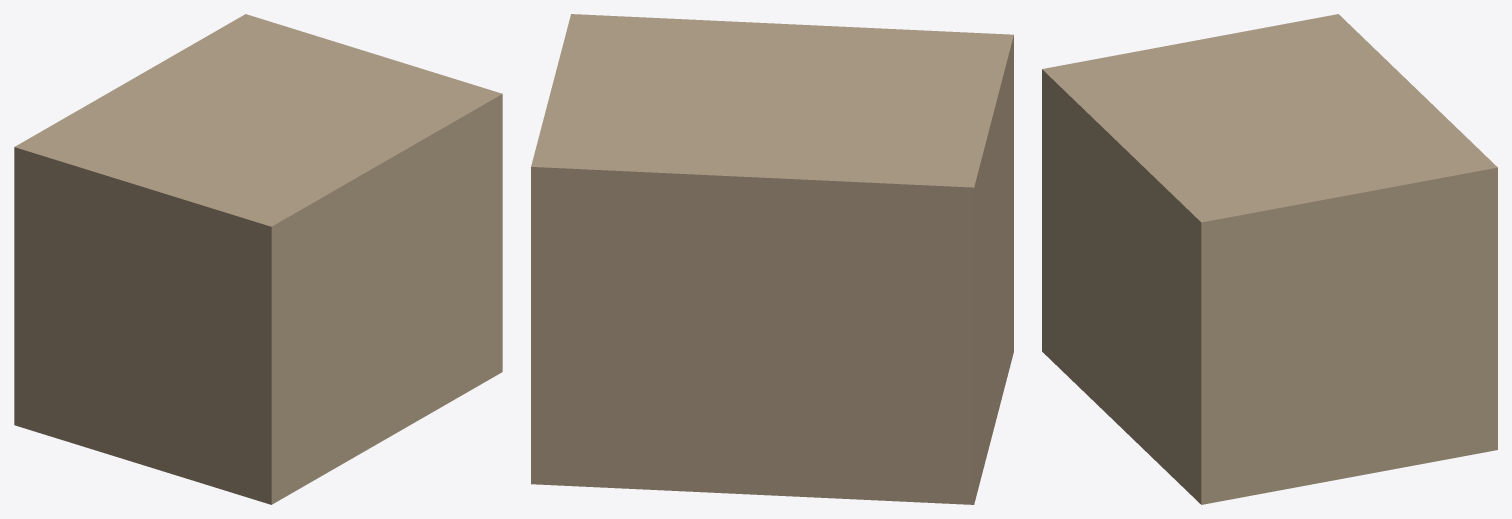
Rendered from bld_106796622.dae.
3 views of the same model, side by side, from view 1: azimuth 30°, elevation 25°; view 2: azimuth 150°, elevation 25°; view 3: azimuth 270°, elevation 25° (orthographic). The views are drawn at different scales.
Parts seen in each view (by area): view 1: bld_106796622; view 2: bld_106796622; view 3: bld_106796622.
Part boxes in pixels (x1=…): bld_106796622: x1=14, y1=14, x2=502, y2=504; bld_106796622: x1=531, y1=14, x2=1013, y2=504; bld_106796622: x1=1042, y1=14, x2=1497, y2=504.
Size of the model in its own units: 12.67 by 11.7 by 8.
